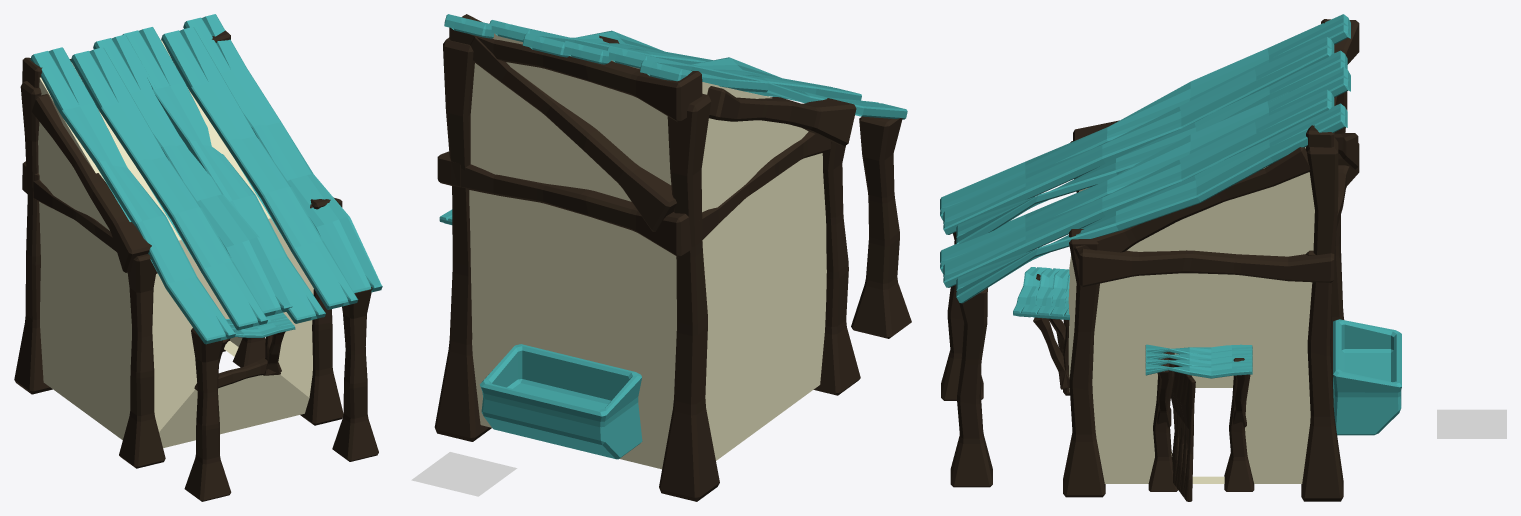
The model's file is House2.fbx.
The picture shows the model from 3 angles, left to right: view 1: azimuth 30°, elevation 25°; view 2: azimuth 150°, elevation 25°; view 3: azimuth 270°, elevation 25°; orthographic projection. The views are drawn at different scales.
Parts seen in each view (by area): view 1: Roof 1.013; view 2: Roof 1.013, Plane; view 3: Roof 1.013, Plane.
Boxes of the visible parts, box(x1,y1,x2,y2) form: Roof 1.013: box(14, 14, 382, 501); Roof 1.013: box(434, 14, 911, 501); Plane: box(411, 452, 517, 496); Roof 1.013: box(940, 14, 1401, 501); Plane: box(1437, 409, 1506, 438).
Size of the model in its own units: 951 by 1204 by 1626.
